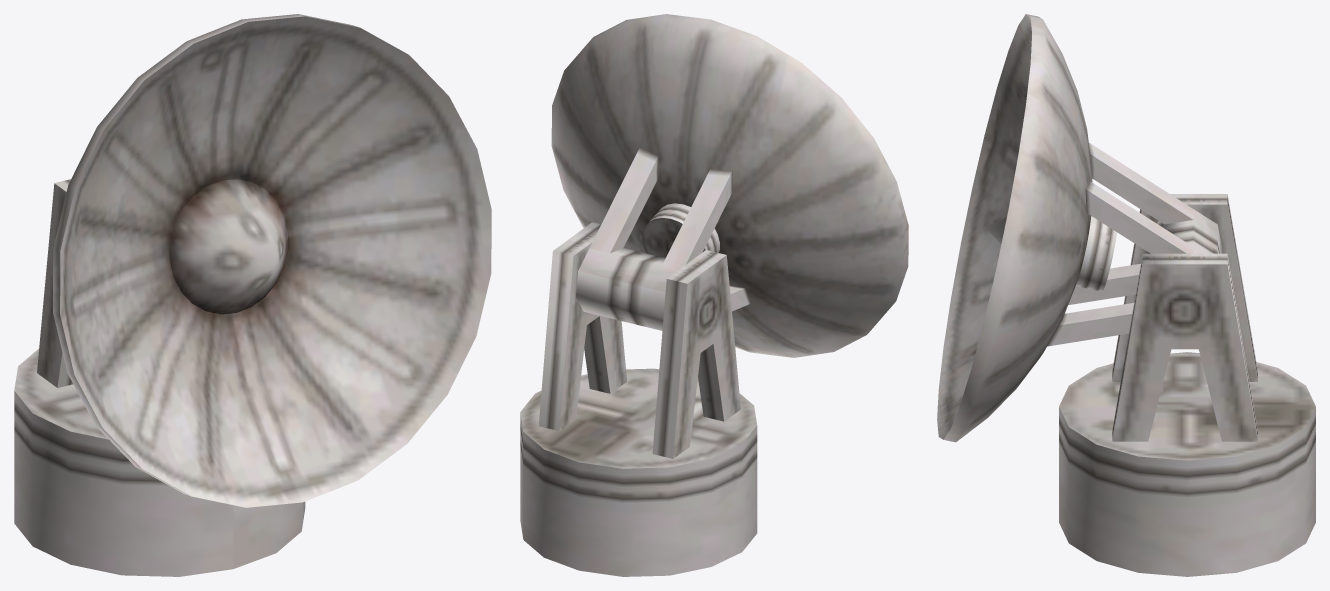
File: yt1300_radar_s01_l0.fbx
3 renders of one model, left to right at view 1: azimuth 30°, elevation 25°; view 2: azimuth 150°, elevation 25°; view 3: azimuth 270°, elevation 25°, orthographic. The views are drawn at different scales.
Parts seen in each view (by area): view 1: mesh_node; view 2: mesh_node; view 3: mesh_node.
Boxes of the visible parts, bbox=[...] form: mesh_node: bbox=[14, 14, 491, 576]; mesh_node: bbox=[520, 14, 908, 576]; mesh_node: bbox=[937, 14, 1315, 576].
Size of the model in its own units: 4.07 by 5.04 by 3.54.
1 material, 1 textured.
